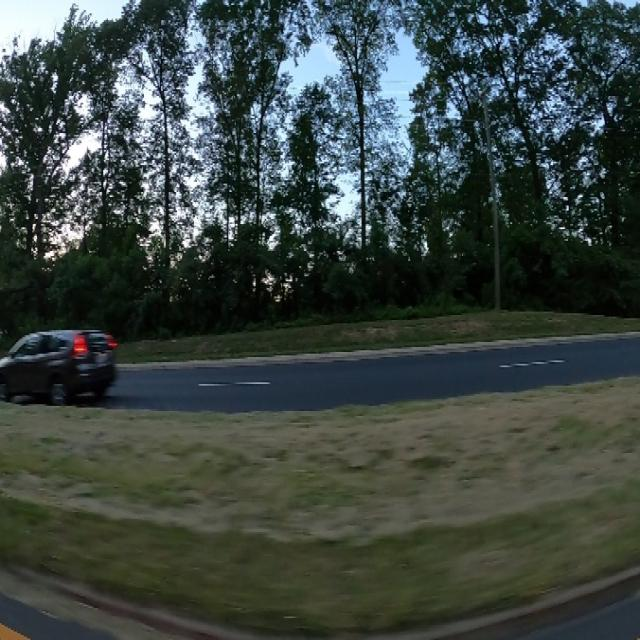Cars: (0, 328, 121, 412)
